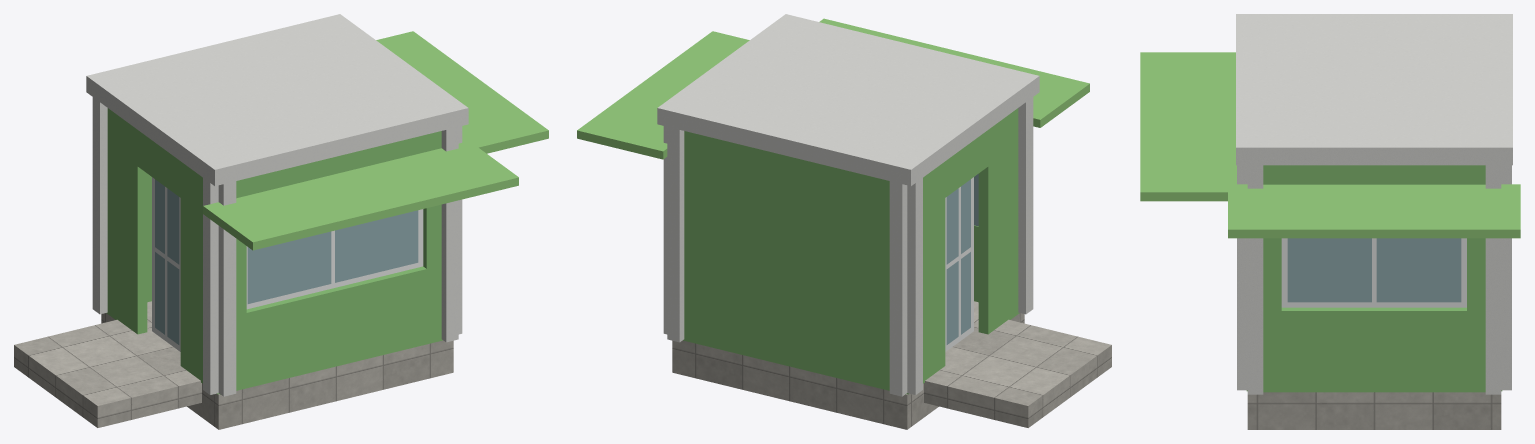
3 views of the same model, side by side, from view 1: azimuth 30°, elevation 25°; view 2: azimuth 150°, elevation 25°; view 3: azimuth 270°, elevation 25° (orthographic). The views are drawn at different scales.
Parts seen in each view (by area): view 1: guard__white, guard__green, guard__awning, guard__threshold-front, guard__glass, guard__stone, guard__frame; view 2: guard__green, guard__white, guard__threshold-front, guard__awning, guard__stone, guard__glass, guard__frame; view 3: guard__white, guard__awning, guard__green, guard__glass, guard__stone, guard__frame.
Part boxes in pixels (box(x1,y1,x2,y2)): guard__white: box(86, 14, 468, 396); guard__green: box(106, 108, 442, 394); guard__awning: box(203, 31, 548, 250); guard__threshold-front: box(14, 319, 201, 427); guard__glass: box(155, 179, 418, 344); guard__stone: box(101, 301, 453, 429); guard__frame: box(152, 177, 423, 351); guard__green: box(683, 108, 1019, 394); guard__white: box(657, 14, 1039, 396); guard__threshold-front: box(924, 319, 1111, 427); guard__awning: box(577, 18, 1089, 159); guard__stone: box(672, 301, 1024, 429); guard__glass: box(946, 174, 978, 344); guard__frame: box(945, 177, 973, 351); guard__white: box(1236, 14, 1512, 394); guard__awning: box(1140, 52, 1520, 238); guard__green: box(1246, 165, 1502, 392); guard__glass: box(1287, 238, 1461, 302); guard__stone: box(1247, 392, 1501, 429); guard__frame: box(1281, 238, 1466, 307).
Size of the model in its own units: 5.43 by 3.25 by 3.9.
6 materials, 2 textured.
